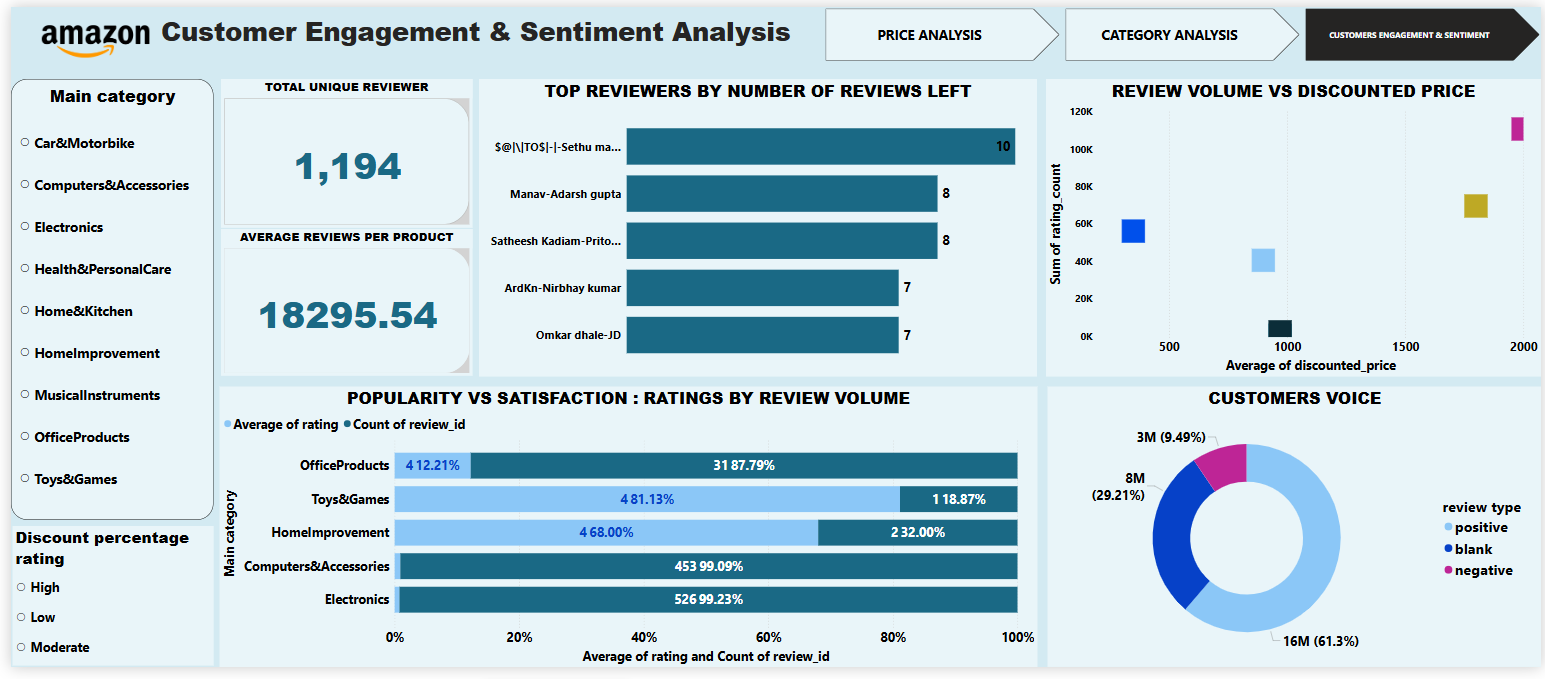

The page's visual inventory and layout, read from the dashboard file:
{"tool":"powerbi","page":{"name":"CUSTOMERS ENGAGEMENT & SENTIMENT","canvas":[2550,1100],"ordinal":3},"visuals":[{"type":"image","box":[0,25.7,282.4,64.2],"z":0},{"type":"textbox","box":[245,5,1112.5,102.5],"z":1000},{"type":"cardVisual","title":"TOTAL UNIQUE REVIEWER","fields":{"Data":["Count(AMAZON E-COMMERCE SALES.user_id)"]},"box":[348.8,119.3,419.2,247.9],"z":2000},{"type":"cardVisual","title":"AVERAGE REVIEWS PER PRODUCT","fields":{"Data":["Avg(AMAZON E-COMMERCE SALES.rating_count)"]},"box":[348.8,370.3,419.2,244.8],"z":3000},{"type":"barChart","title":"TOP REVIEWERS BY NUMBER OF REVIEWS LEFT","fields":{"Category":["AMAZON E-COMMERCE SALES.customer username"],"Y":["CountNonNull(AMAZON E-COMMERCE SALES.review_id)"]},"box":[780.3,119.3,930.2,495.7],"z":4000},{"type":"scatterChart","title":"REVIEW VOLUME VS DISCOUNTED PRICE","fields":{"Category":["AMAZON E-COMMERCE SALES.product_name"],"X":["Avg(AMAZON E-COMMERCE SALES.discounted_price)"],"Y":["Sum(AMAZON E-COMMERCE SALES.rating_count)"]},"box":[1725.8,119.2,825.3,495.8],"z":5000},{"type":"hundredPercentStackedBarChart","title":"POPULARITY VS SATISFACTION : RATINGS BY REVIEW VOLUME","fields":{"Category":["AMAZON E-COMMERCE SALES.Main category"],"Y":["Avg(AMAZON E-COMMERCE SALES.rating)","CountNonNull(AMAZON E-COMMERCE SALES.review_id)"]},"box":[347.5,632.2,1363.1,468.6],"z":6000},{"type":"donutChart","title":"CUSTOMERS VOICE","fields":{"Category":["AMAZON E-COMMERCE SALES.review type"],"Y":["Sum(AMAZON E-COMMERCE SALES.rating_count)"]},"box":[1726.9,631.7,824.5,467.6],"z":7000},{"type":"listSlicer","fields":{"Values":["AMAZON E-COMMERCE SALES.Main category"]},"box":[0,119.3,337,734.4],"z":8000},{"type":"listSlicer","fields":{"Values":["AMAZON E-COMMERCE SALES.Discount percentage rating"]},"box":[3.1,866,335,232.6],"z":9000},{"type":"pageNavigator","box":[1358.6,2.2,1190.4,87.4],"z":10000}]}

Visuals, with their boxes in screenshot pixels (x1, y1, x2, y2), scaled from the page's 2550x1100 canvas onto the 1545x679 screenshot:
image: [x1=0, y1=16, x2=171, y2=55]
textbox: [x1=148, y1=3, x2=822, y2=66]
"TOTAL UNIQUE REVIEWER" cardVisual: [x1=211, y1=74, x2=465, y2=227]
"AVERAGE REVIEWS PER PRODUCT" cardVisual: [x1=211, y1=229, x2=465, y2=380]
"TOP REVIEWERS BY NUMBER OF REVIEWS LEFT" barChart: [x1=473, y1=74, x2=1036, y2=380]
"REVIEW VOLUME VS DISCOUNTED PRICE" scatterChart: [x1=1046, y1=74, x2=1544, y2=380]
"POPULARITY VS SATISFACTION : RATINGS BY REVIEW VOLUME" hundredPercentStackedBarChart: [x1=211, y1=390, x2=1036, y2=678]
"CUSTOMERS VOICE" donutChart: [x1=1046, y1=390, x2=1544, y2=678]
listSlicer - AMAZON E-COMMERCE SALES.Main category: [x1=0, y1=74, x2=204, y2=527]
listSlicer - AMAZON E-COMMERCE SALES.Discount percentage rating: [x1=2, y1=535, x2=205, y2=678]
pageNavigator: [x1=823, y1=1, x2=1544, y2=55]
